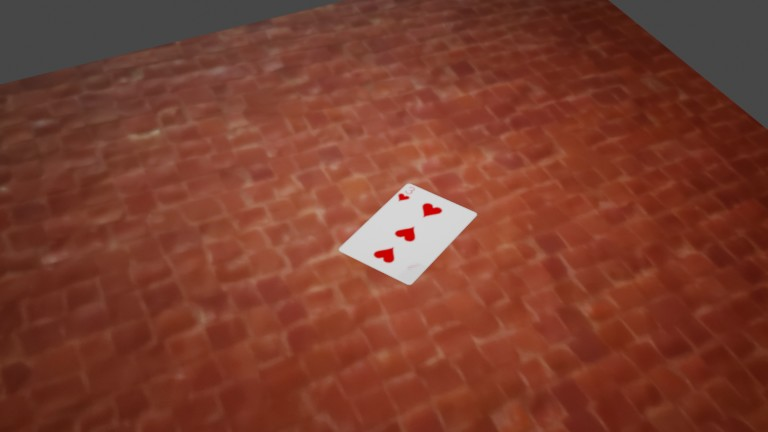3_of_hearts: (159, 104, 171, 114), (157, 74, 168, 82)
